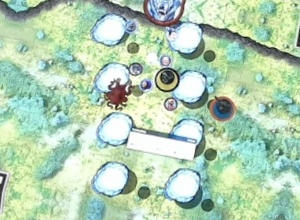giant_red_octopus: (103, 81, 130, 108)
light_blue_orange: (208, 94, 235, 121)
lime_green_violet: (153, 66, 180, 93)
